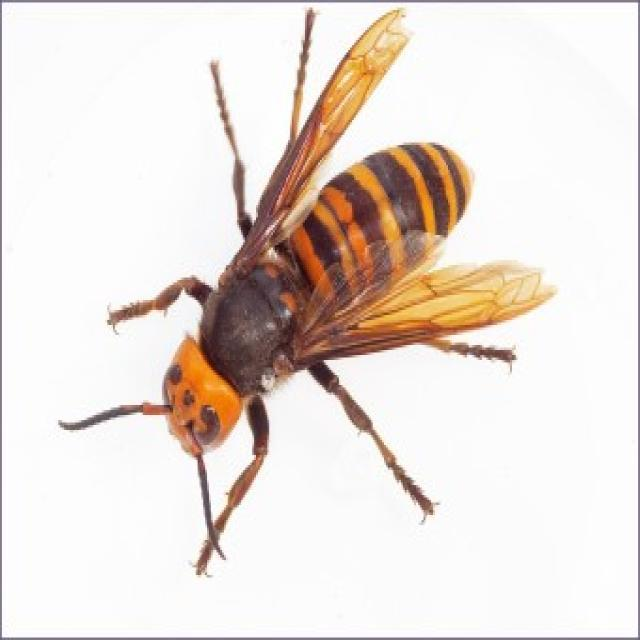Wasp: (77, 5, 562, 560)
